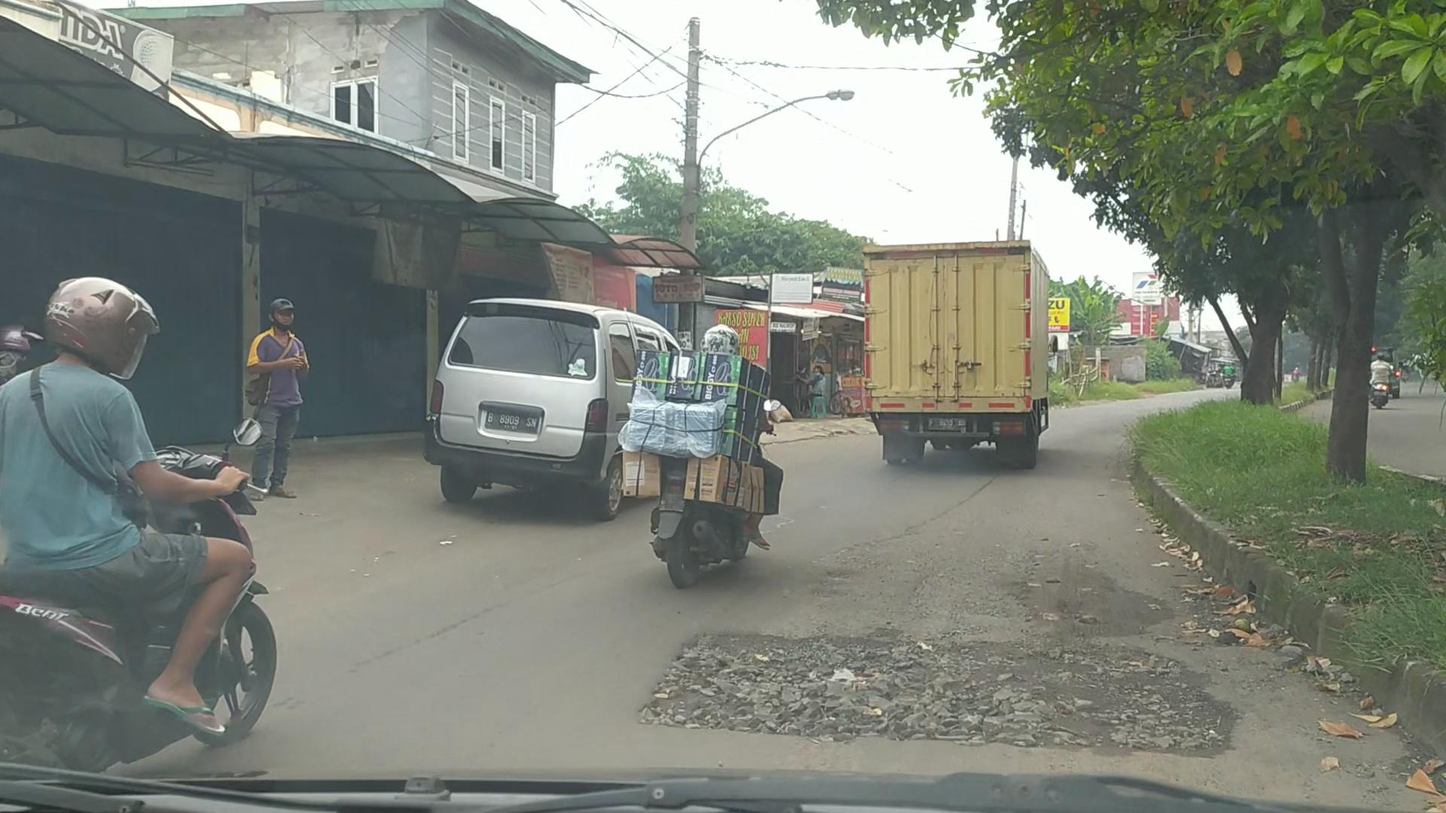pothole: (630, 621, 1234, 747)
